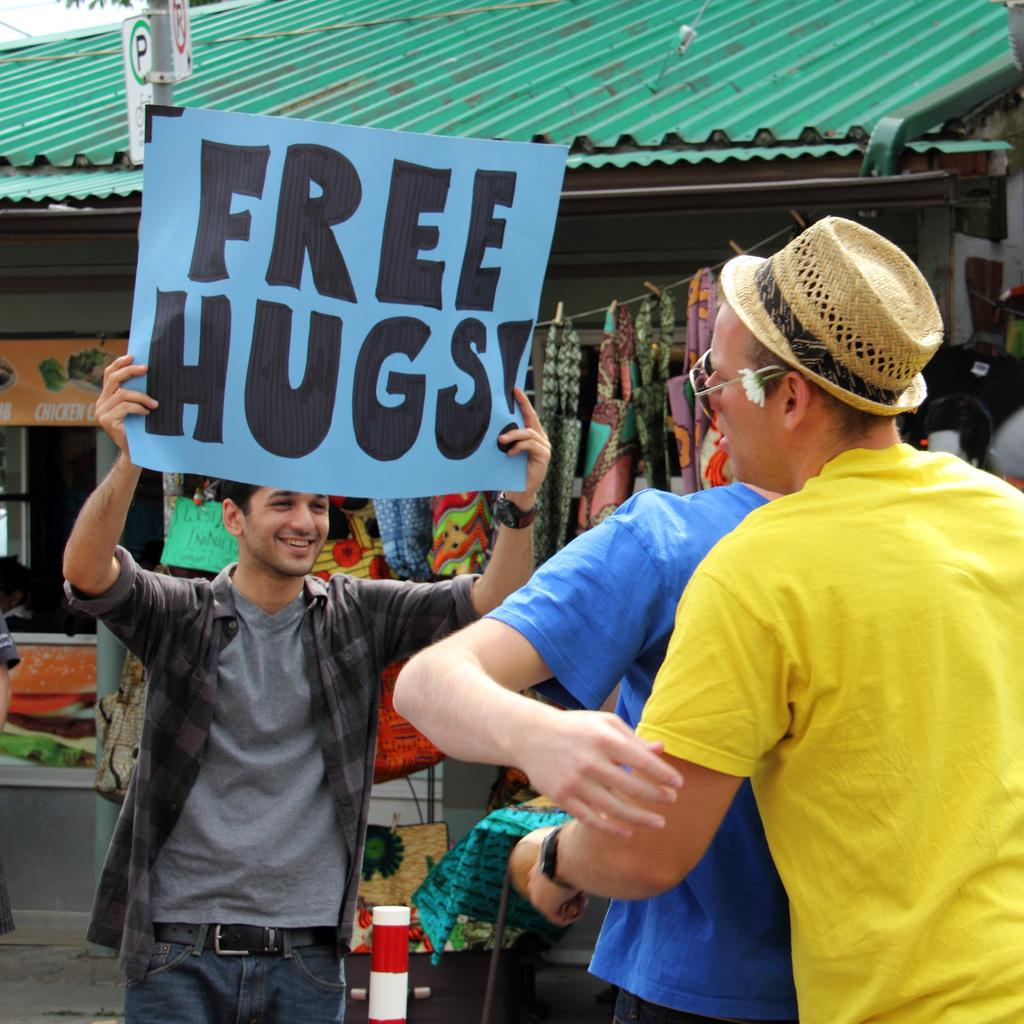Hat: (712, 214, 932, 416)
